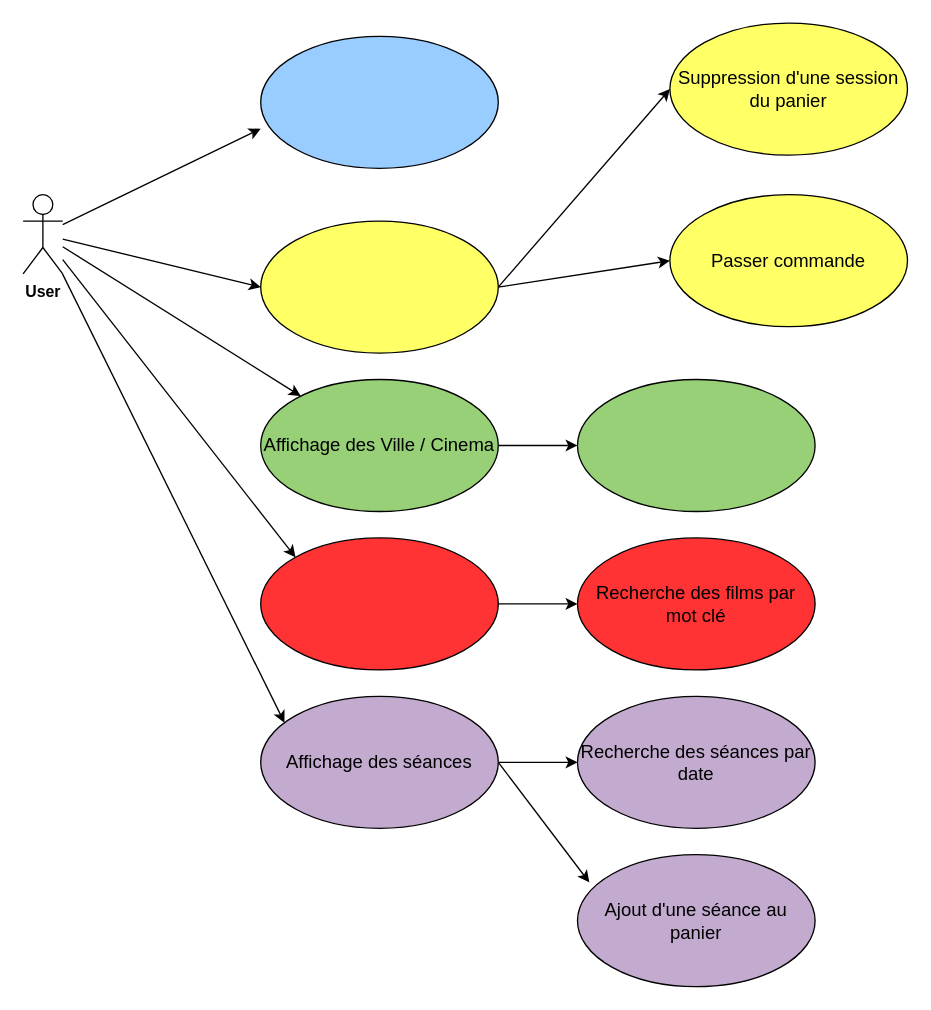
The diagram is 931 pixels wide and 1010 high, and some of its shapes have lost their labels. The shapes that lost their labels are listed below. From the top down, each one's centre as x and y in pixels, then its label:
At point 378,101: "Se deconnecter".
At point 378,286: "Affichage du panier".
At point 695,445: "Recherche des cinémas par mot clé".
At point 378,603: "Affichage des films".
